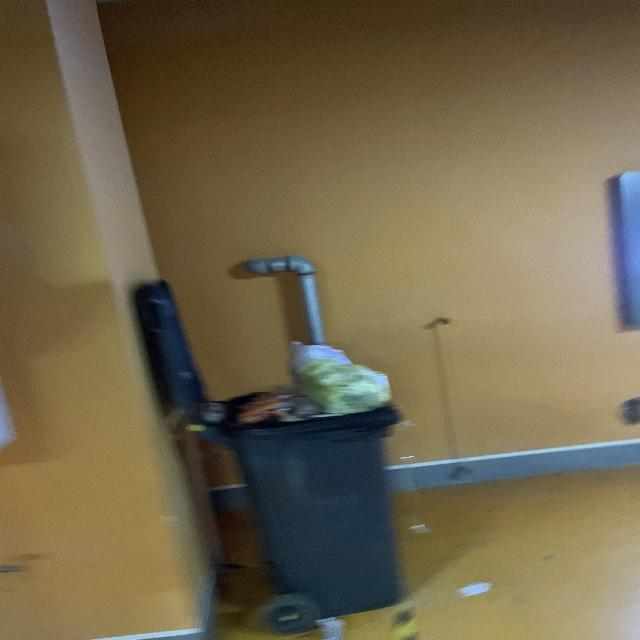overflow: (206, 337, 401, 619)
